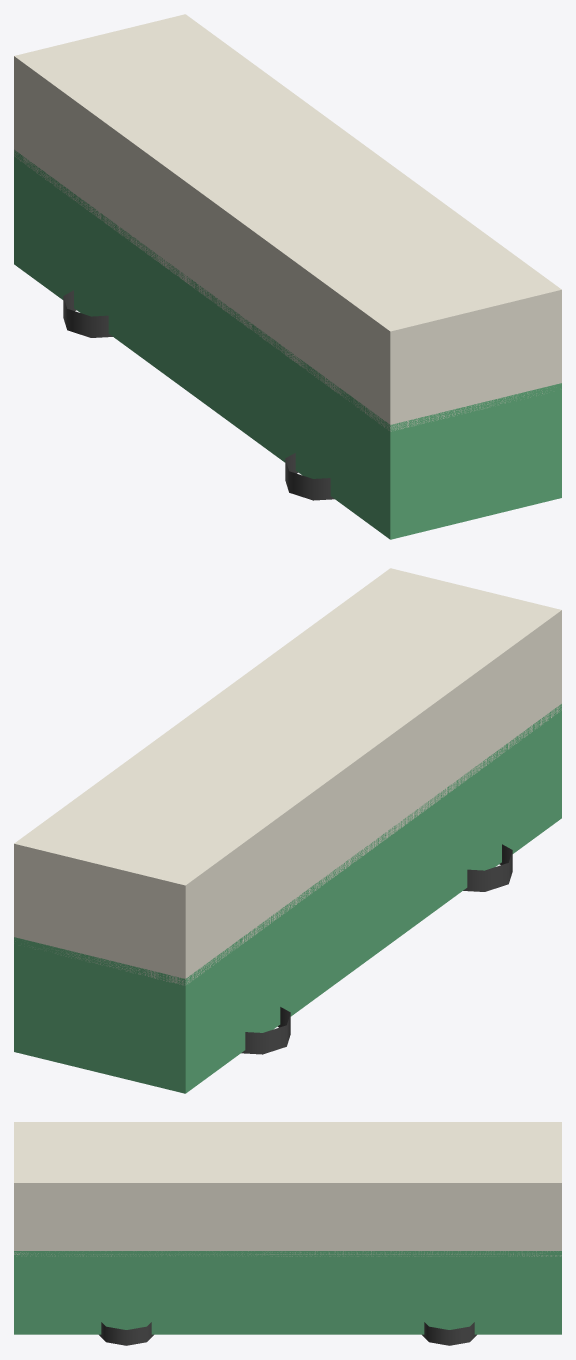
The model's file is city_bus.glb.
3 renders of one model, top to bottom at view 1: azimuth 30°, elevation 25°; view 2: azimuth 150°, elevation 25°; view 3: azimuth 270°, elevation 25°, orthographic. The views are drawn at different scales.
Parts seen in each view (by area): view 1: WindowRoofBand_Node, LowerBody_Node, Wheel_2_Node, Wheel_0_Node; view 2: WindowRoofBand_Node, LowerBody_Node, Wheel_0_Node, Wheel_2_Node; view 3: WindowRoofBand_Node, LowerBody_Node, Wheel_1_Node, Wheel_3_Node.
Boxes of the visible parts, left/top/right/bottom form: WindowRoofBand_Node: left=14, top=14, right=561, bottom=431; LowerBody_Node: left=14, top=149, right=561, bottom=539; Wheel_2_Node: left=285, top=453, right=334, bottom=500; Wheel_0_Node: left=63, top=290, right=112, bottom=337; WindowRoofBand_Node: left=14, top=568, right=561, bottom=985; LowerBody_Node: left=14, top=704, right=561, bottom=1093; Wheel_0_Node: left=241, top=1007, right=290, bottom=1054; Wheel_2_Node: left=463, top=844, right=512, bottom=891; WindowRoofBand_Node: left=14, top=1122, right=561, bottom=1256; LowerBody_Node: left=14, top=1251, right=561, bottom=1334; Wheel_1_Node: left=422, top=1322, right=476, bottom=1345; Wheel_3_Node: left=99, top=1322, right=153, bottom=1345.
Bounding box in the file's own units: 3.2 × 2.95 × 9.5.
